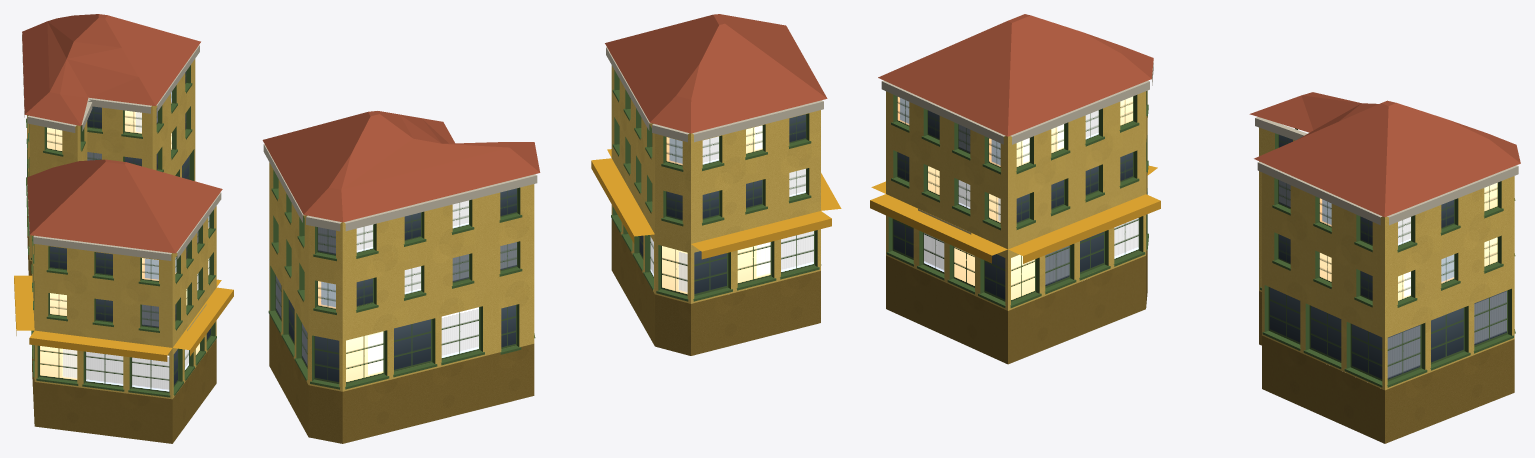
Rendered from langA_werner.glb.
3 renders of one model, left to right at view 1: azimuth 30°, elevation 25°; view 2: azimuth 150°, elevation 25°; view 3: azimuth 270°, elevation 25°, orthographic. The views are drawn at different scales.
Parts seen in each view (by area): view 1: langA_werner; view 2: langA_werner; view 3: langA_werner.
Boxes of the visible parts, left/top/right/bottom form: langA_werner: left=14, top=14, right=233, bottom=443; langA_werner: left=262, top=14, right=841, bottom=443; langA_werner: left=870, top=14, right=1520, bottom=443.
Size of the model in its own units: 23.63 by 16.24 by 33.06.
Materials: 3 (3 with a texture image).
